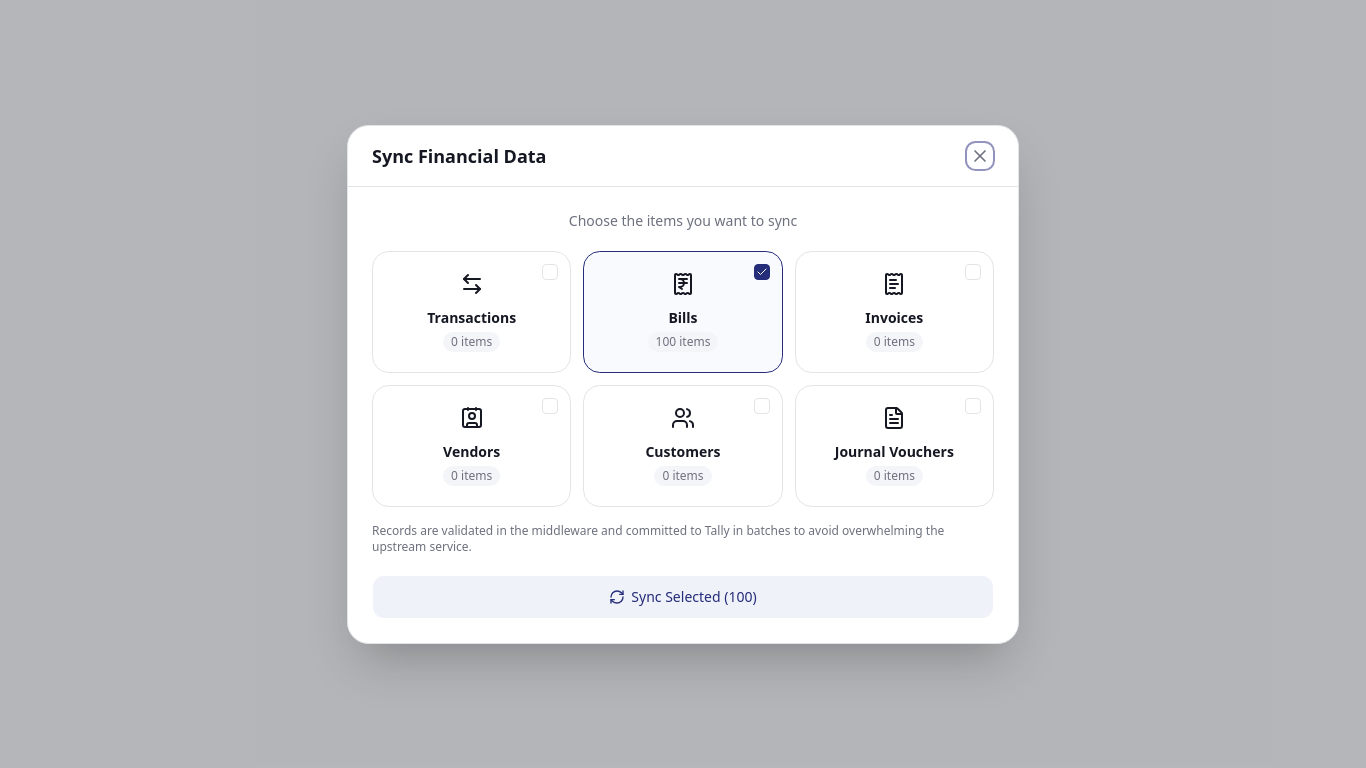
Test: SyncModal › renders a dry-run push as a dry run rather than a failure
The width and height of the screenshot is (1366, 768).
Click the button "Sync Selected (100)": coordinates (683, 596) [372,574,994,618]
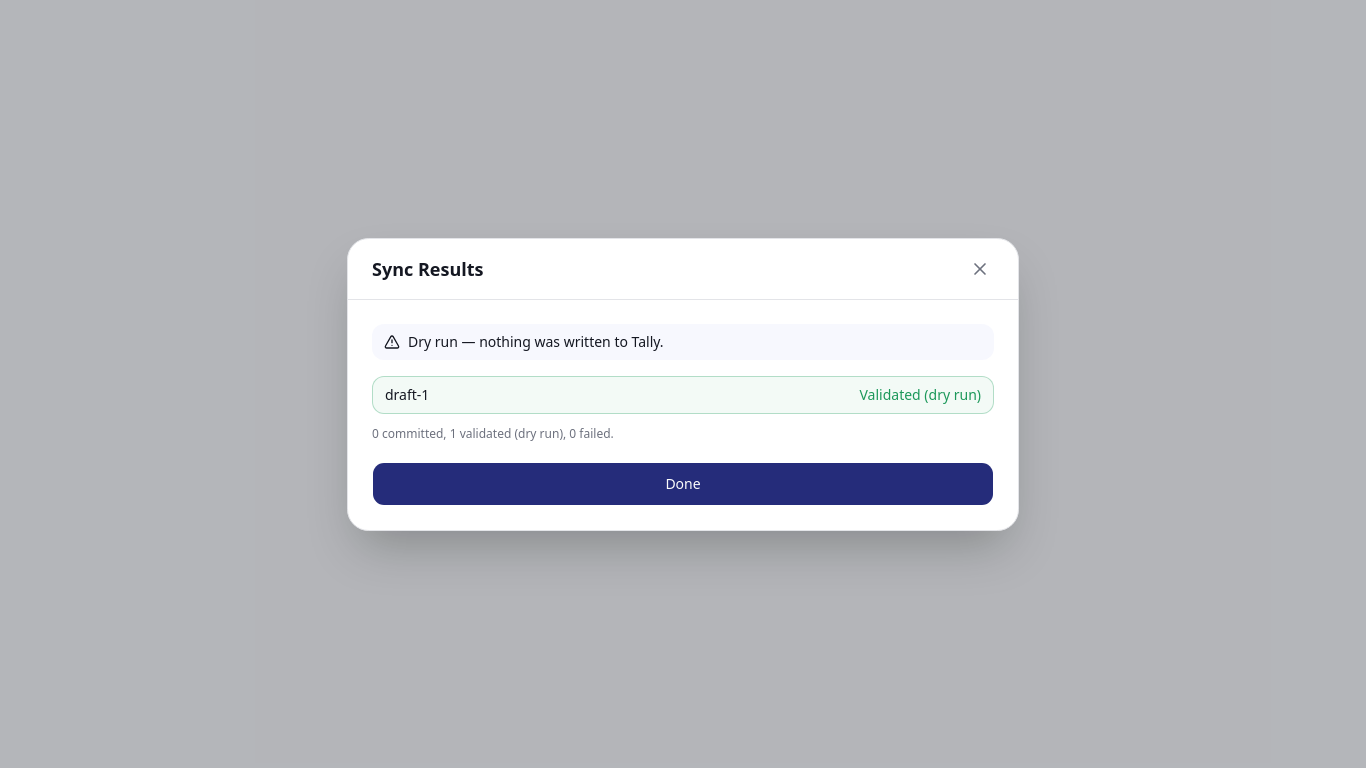
expect the heading "Sync Results" is shown: met, box [372,254,484,282]
expect the text "Dry run — nothing was written to Tally." is shown: met, box [372,324,994,360]
expect the text "Validated (dry run)" is shown: met, box [860,384,981,404]
